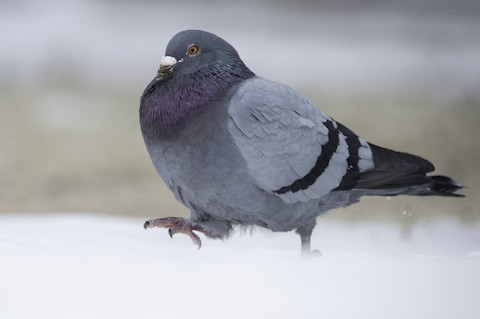pigeon: (139, 28, 464, 260)
